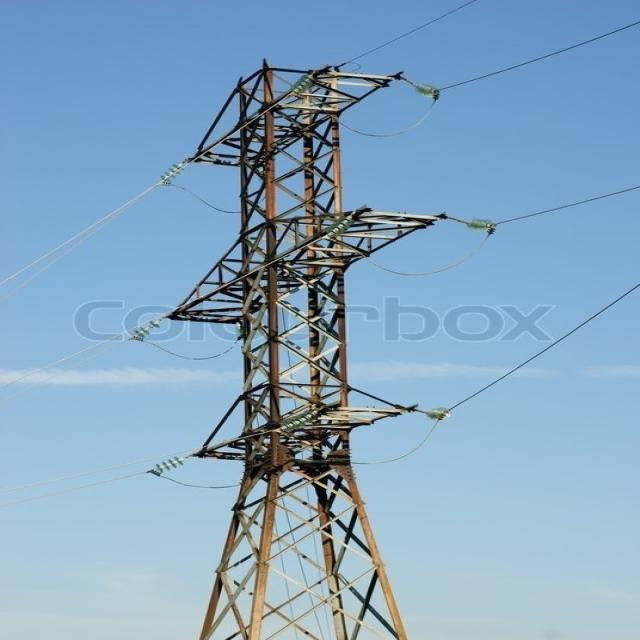non-critical vegetation: (155, 59, 485, 635)
